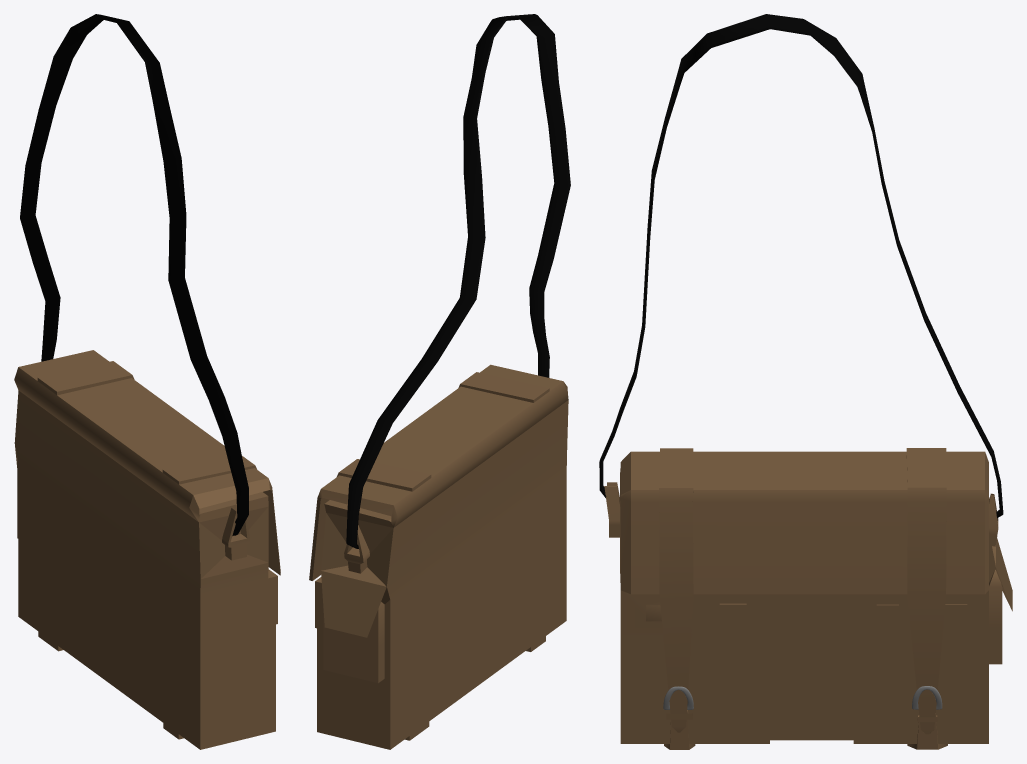
The model's file is satchel.fbx.
The picture shows the model from 3 angles, left to right: view 1: azimuth 30°, elevation 25°; view 2: azimuth 150°, elevation 25°; view 3: azimuth 270°, elevation 25°; orthographic projection. The views are drawn at different scales.
Parts seen in each view (by area): view 1: bag, handle; view 2: bag, handle; view 3: bag, handle.
Boxes of the visible parts, x1,y1,x2,y2 form: bag: (14, 350, 280, 749); handle: (20, 14, 248, 535); bag: (309, 364, 568, 749); handle: (346, 14, 570, 548); bag: (604, 448, 1012, 749); handle: (599, 14, 1003, 517).
Size of the model in its own units: 157 by 773 by 418.
